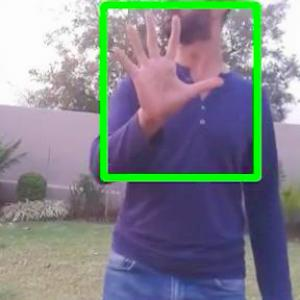follow_hand: (107, 5, 225, 123)
